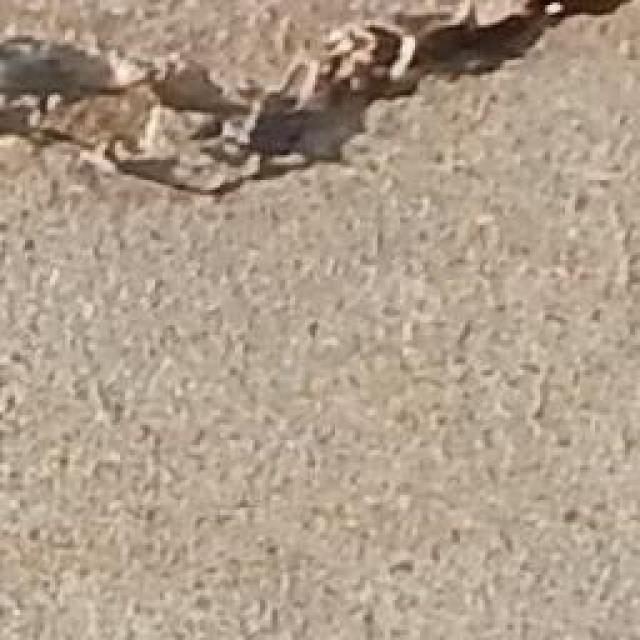concrete-crack: (0, 0, 640, 207)
